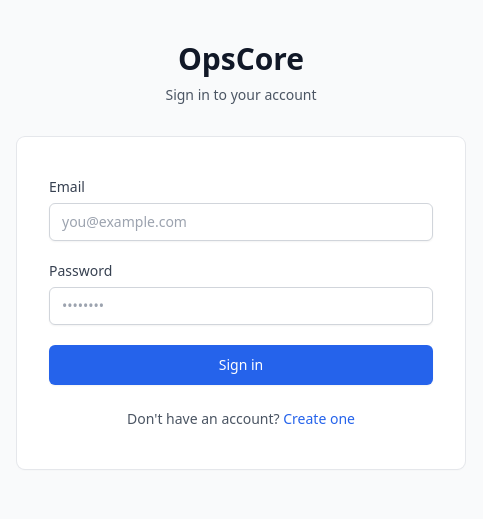
Test: Phase 11.2 Auth Pages Acceptance Tests › Login: API error displays error message
Type "ops@example.com" into the field labelled "Email".
click(241, 222); type("ops@example.com")  # box [49,203,433,241]
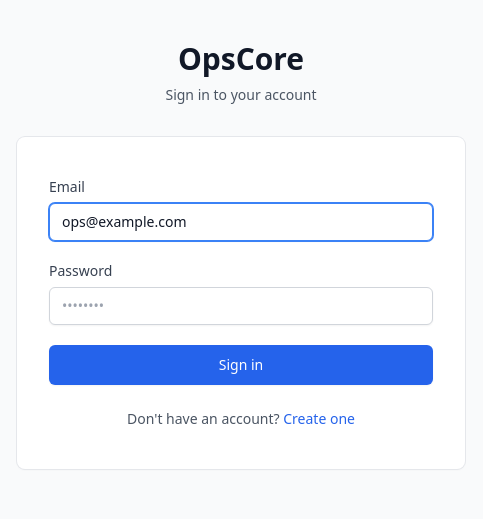
Type "wrongpassword" into the password field labelled "Password".
click(241, 306); type("wrongpassword")  # box [49,287,433,325]
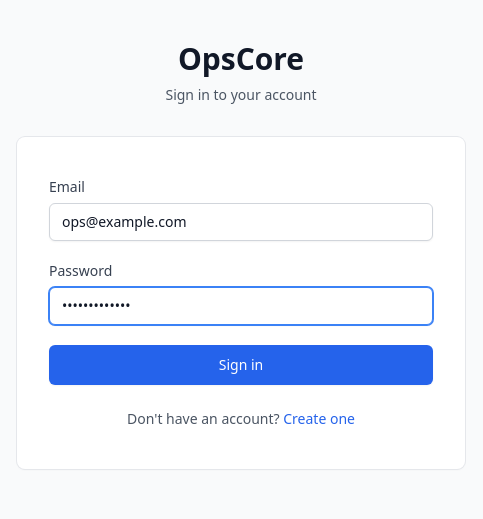
Click the button "Sign in".
click(241, 365)  # box [49,345,433,385]
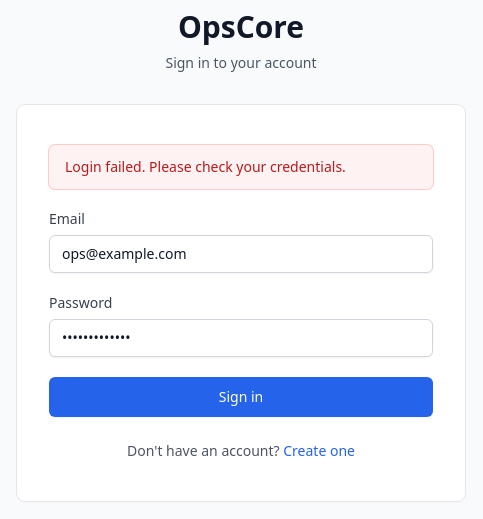
expect the message "Login failed. Please check your credentials." is shown: met, box [49,145,433,189]
